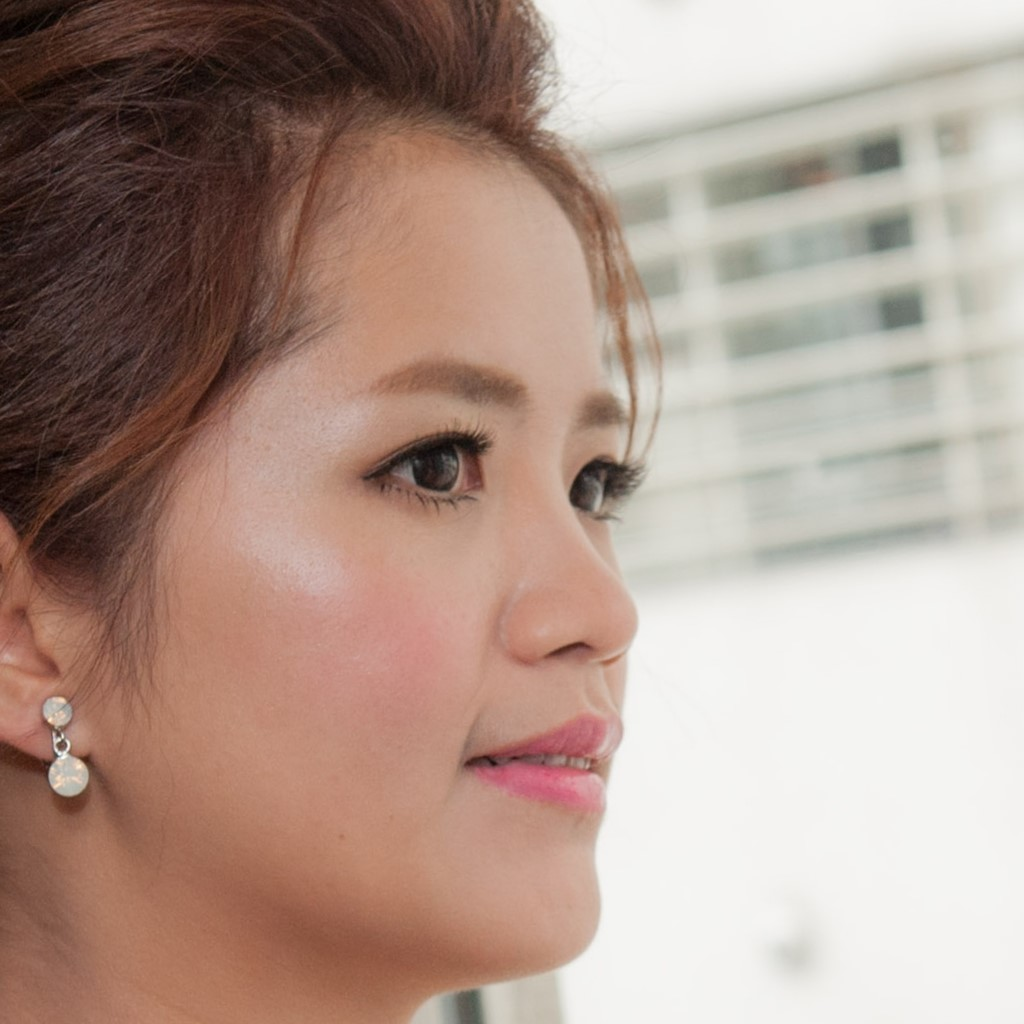sin_mascara: (243, 123, 656, 994)
